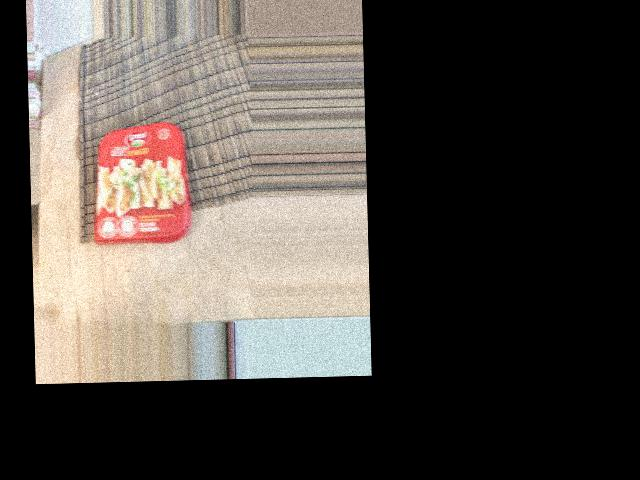cheese: (120, 102, 253, 194)
